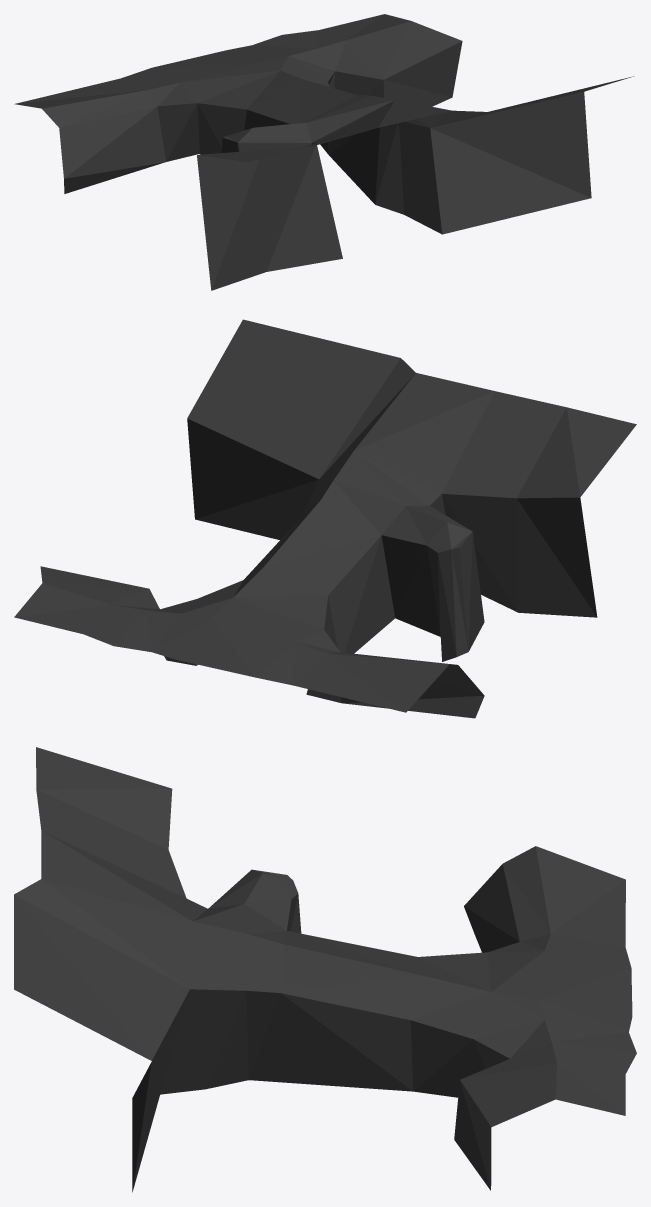
The model's file is Cave_11B_LOD_2.fbx.
3 views of the same model, one above another, from view 1: azimuth 30°, elevation 25°; view 2: azimuth 150°, elevation 25°; view 3: azimuth 270°, elevation 25° (orthographic). The views are drawn at different scales.
Visible parts, largest first — view 1: pPlane12; view 2: pPlane12; view 3: pPlane12.
Part boxes in pixels (x1,y1,x2,y2): pPlane12: (14, 14, 634, 290); pPlane12: (14, 319, 636, 718); pPlane12: (14, 747, 636, 1192).
Size of the model in its own units: 41.23 by 16.29 by 41.64.
